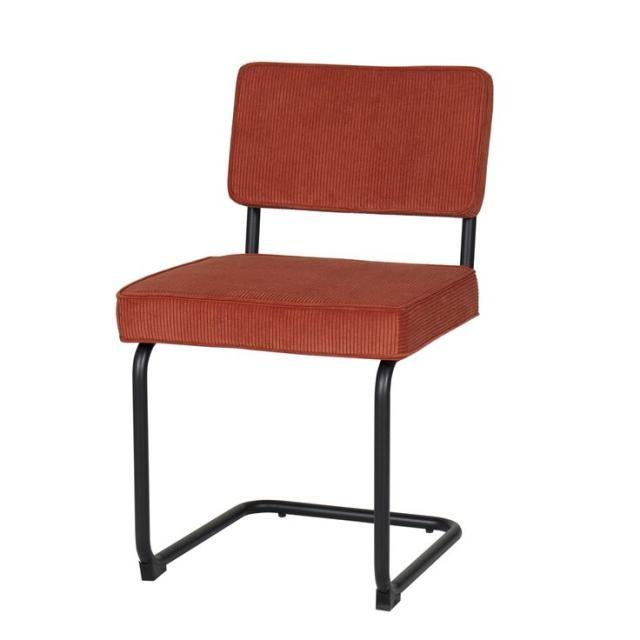obstacle: (115, 59, 494, 612)
